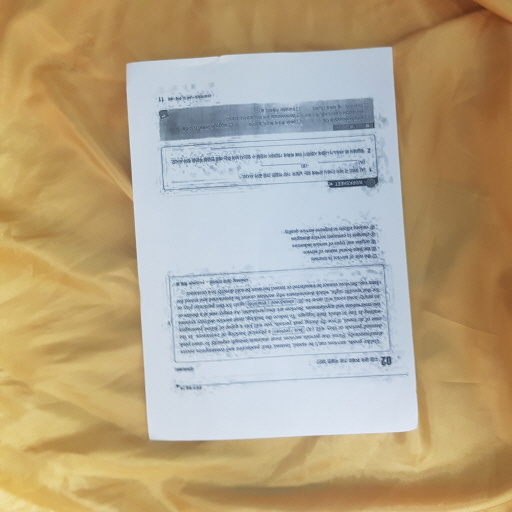Paper_2: (122, 46, 426, 451)
